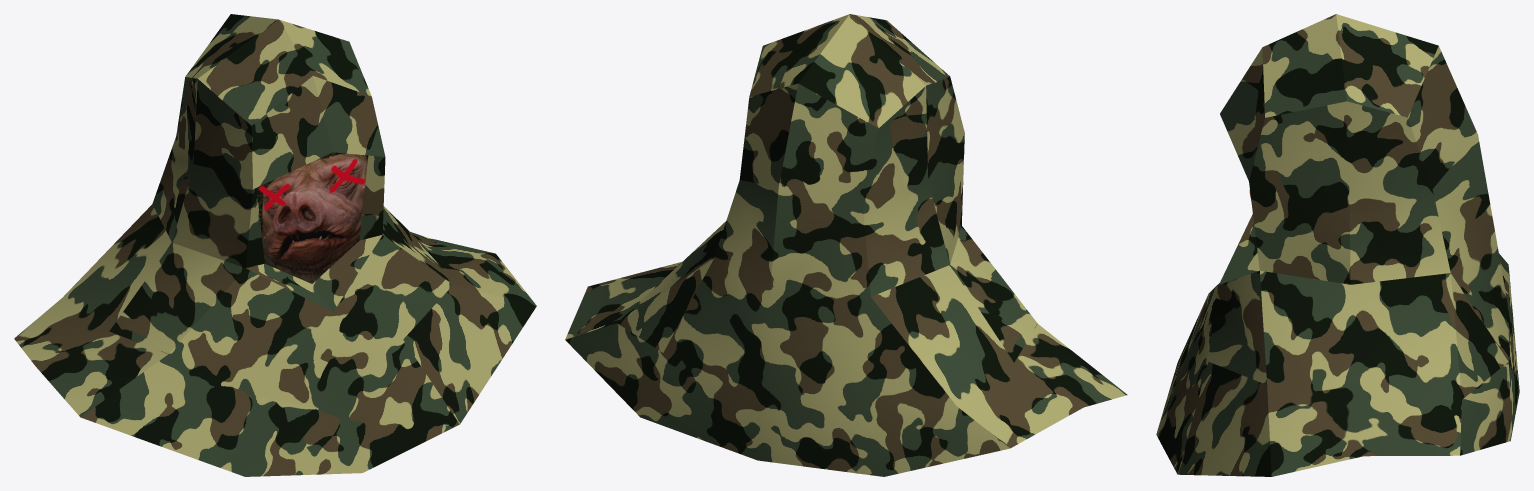
Rendered from DeadthRussian.fbx.
3 renders of one model, left to right at view 1: azimuth 30°, elevation 25°; view 2: azimuth 150°, elevation 25°; view 3: azimuth 270°, elevation 25°, orthographic. The views are drawn at different scales.
Parts seen in each view (by area): view 1: Cube.052; view 2: Cube.052; view 3: Cube.052.
Boxes of the visible parts, box(x1,y1,x2,y2) form: Cube.052: box(14, 14, 536, 476); Cube.052: box(565, 14, 1127, 476); Cube.052: box(1156, 14, 1519, 476).
Size of the model in its own units: 89.51 by 73.4 by 57.02.
